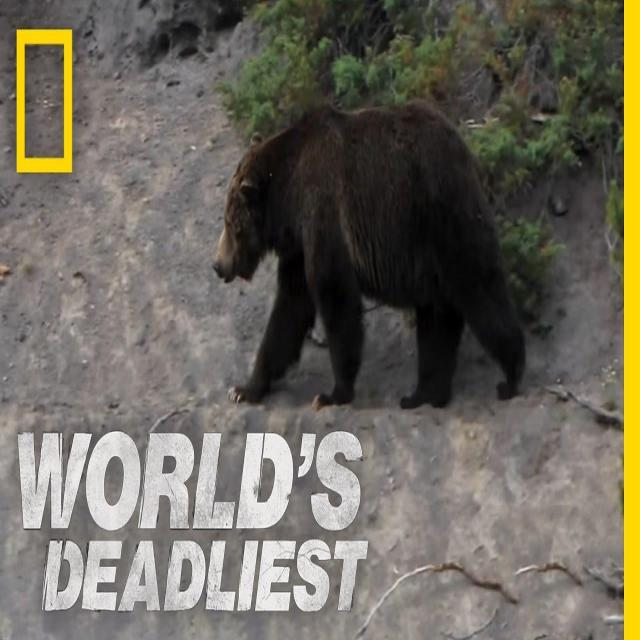Bear: (213, 101, 528, 410)
